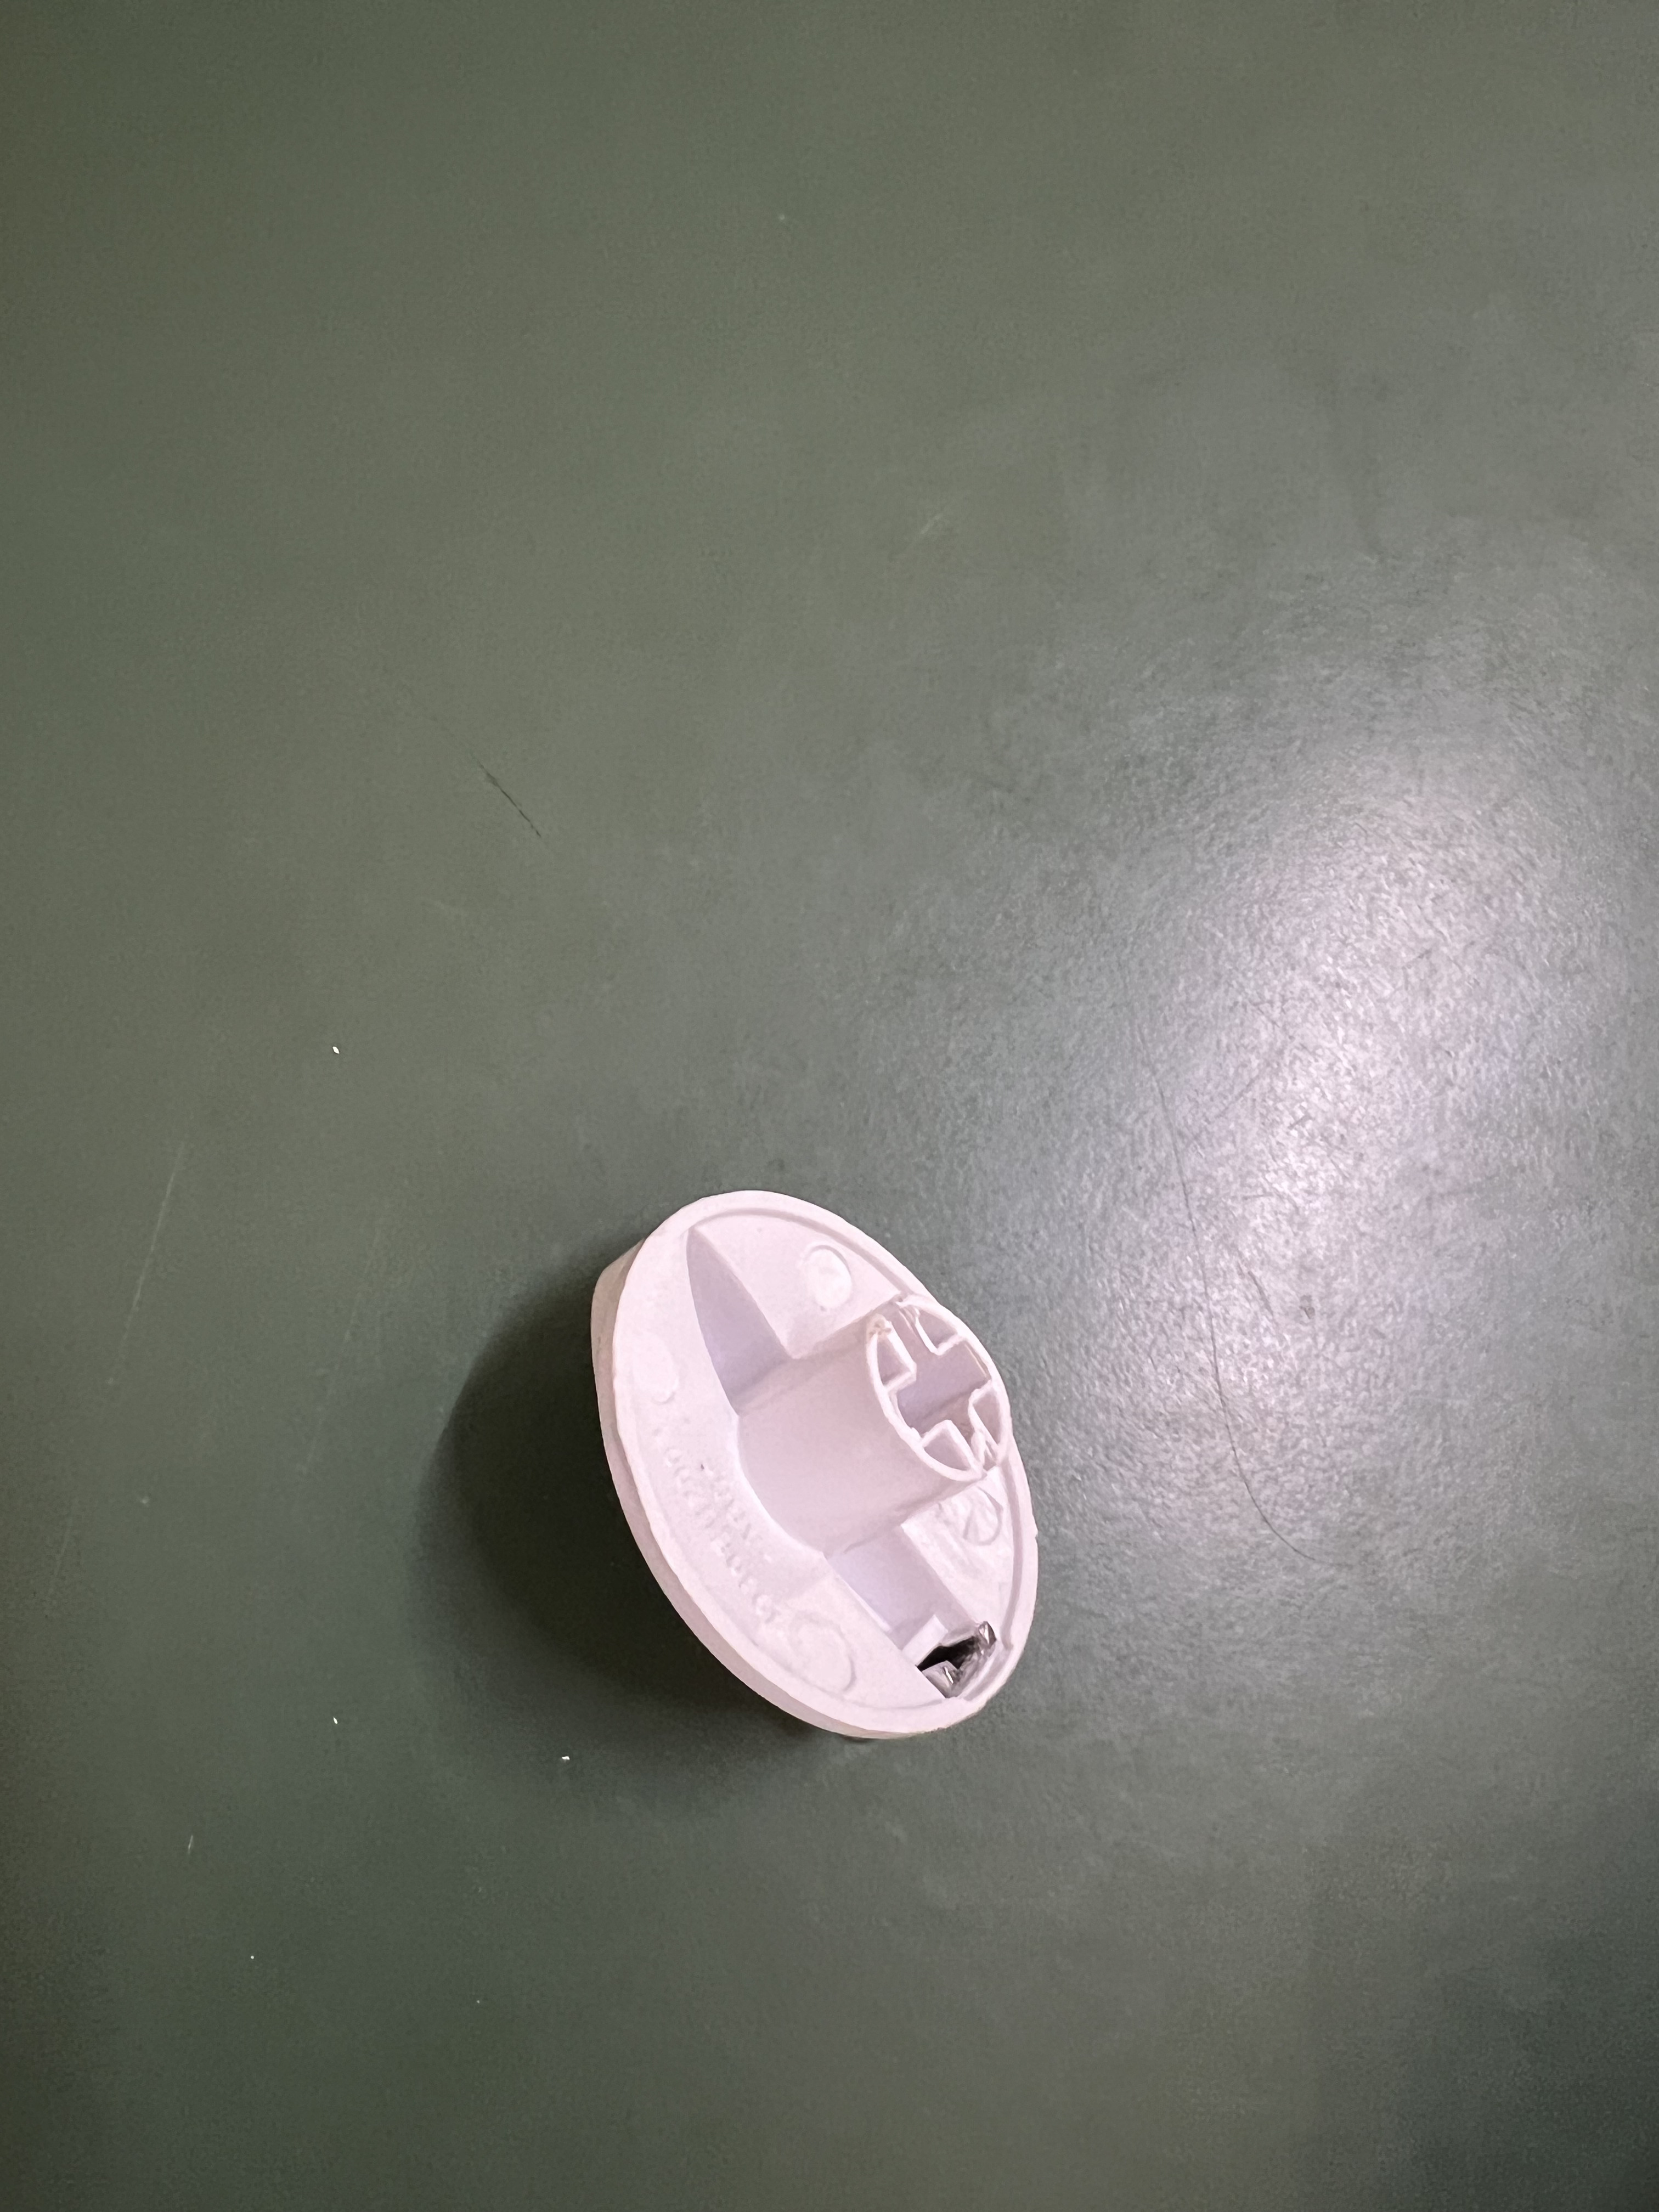regulator: (582, 1179, 1053, 1745)
